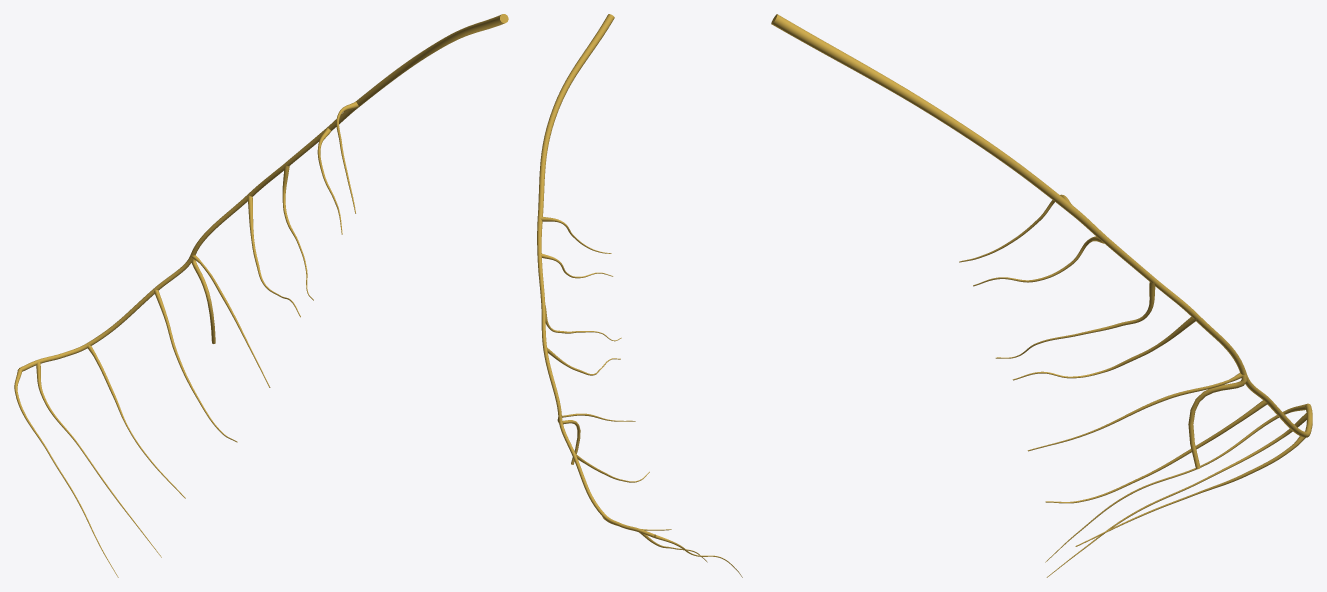
The picture shows the model from 3 angles, left to right: view 1: azimuth 30°, elevation 25°; view 2: azimuth 150°, elevation 25°; view 3: azimuth 270°, elevation 25°; orthographic projection. The views are drawn at different scales.
Visible parts, largest first — view 1: 左侧下牙槽神经; view 2: 左侧下牙槽神经; view 3: 左侧下牙槽神经.
Boxes of the visible parts, x1,y1,x2,y2 form: 左侧下牙槽神经: [14, 14, 508, 577]; 左侧下牙槽神经: [537, 14, 742, 577]; 左侧下牙槽神经: [771, 14, 1312, 577].
Size of the model in its own units: 0.0525 by 0.097 by 0.0665.
